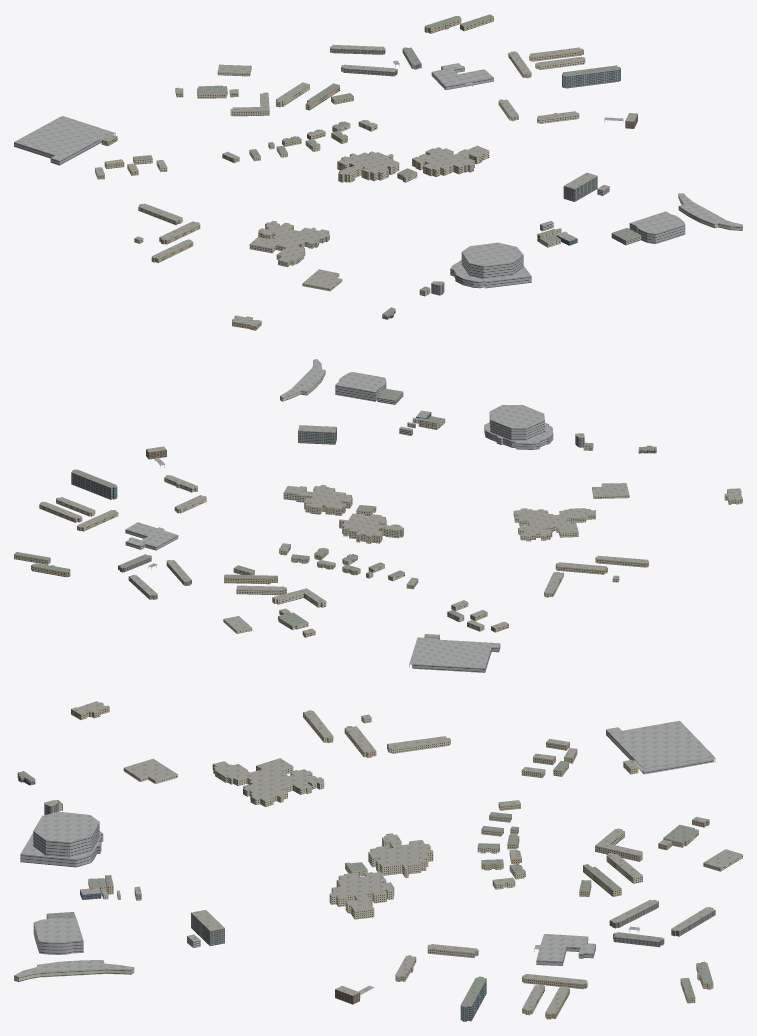
Rendered from ArahaTown_Block_E02048_N03072.gltf.
3 views of the same model, one above another, from view 1: azimuth 30°, elevation 25°; view 2: azimuth 150°, elevation 25°; view 3: azimuth 270°, elevation 25° (orthographic). The views are drawn at different scales.
Visible parts, largest first — view 1: ArahaTown_Block_E02048_N03072; view 2: ArahaTown_Block_E02048_N03072; view 3: ArahaTown_Block_E02048_N03072.
Boxes of the visible parts, bbox=[...] form: ArahaTown_Block_E02048_N03072: bbox=[14, 14, 742, 330]; ArahaTown_Block_E02048_N03072: bbox=[14, 359, 742, 672]; ArahaTown_Block_E02048_N03072: bbox=[14, 701, 742, 1021].
Size of the model in its own units: 1086 by 48.4 by 1053.
Materials: 20 (19 with a texture image).
